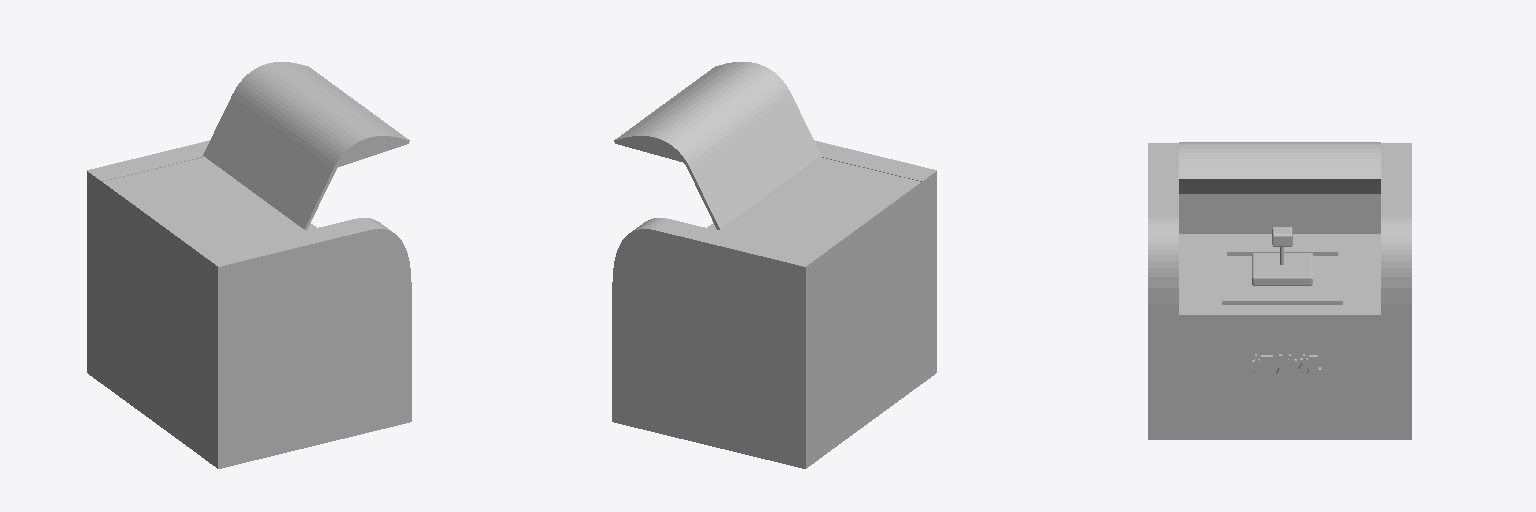
File: 切片机.obj
3 views of the same model, side by side, from view 1: azimuth 30°, elevation 25°; view 2: azimuth 150°, elevation 25°; view 3: azimuth 270°, elevation 25° (orthographic).
Visible parts, largest first — view 1: ??_2, ???_2, ??_2_2, ??_1; view 2: ??_1, ???_2, ??_2_2, ??_2; view 3: ???_2, ???_2_1, ??_2_2, ??_1, ??_2, ???_3, ???_4, ??, ???_1_2.
Boxes of the visible parts, box(x1,y1,x2,y2) form: ??_2: box(203, 218, 411, 468); ???_2: box(102, 157, 305, 457); ??_2_2: box(203, 62, 409, 230); ??_1: box(87, 140, 209, 383); ??_1: box(612, 218, 820, 468); ???_2: box(718, 157, 921, 457); ??_2_2: box(614, 62, 820, 229); ??_2: box(814, 140, 936, 383); ???_2: box(1178, 315, 1380, 439); ???_2_1: box(1179, 198, 1380, 314); ??_2_2: box(1179, 142, 1380, 193); ??_1: box(1381, 143, 1411, 439); ??_2: box(1148, 143, 1178, 439); ???_3: box(1252, 253, 1312, 285); ???_4: box(1222, 250, 1342, 304); ??: box(1252, 354, 1320, 375); ???_1_2: box(1179, 194, 1380, 197).
Size of the model in its own units: 236 by 305 by 260.